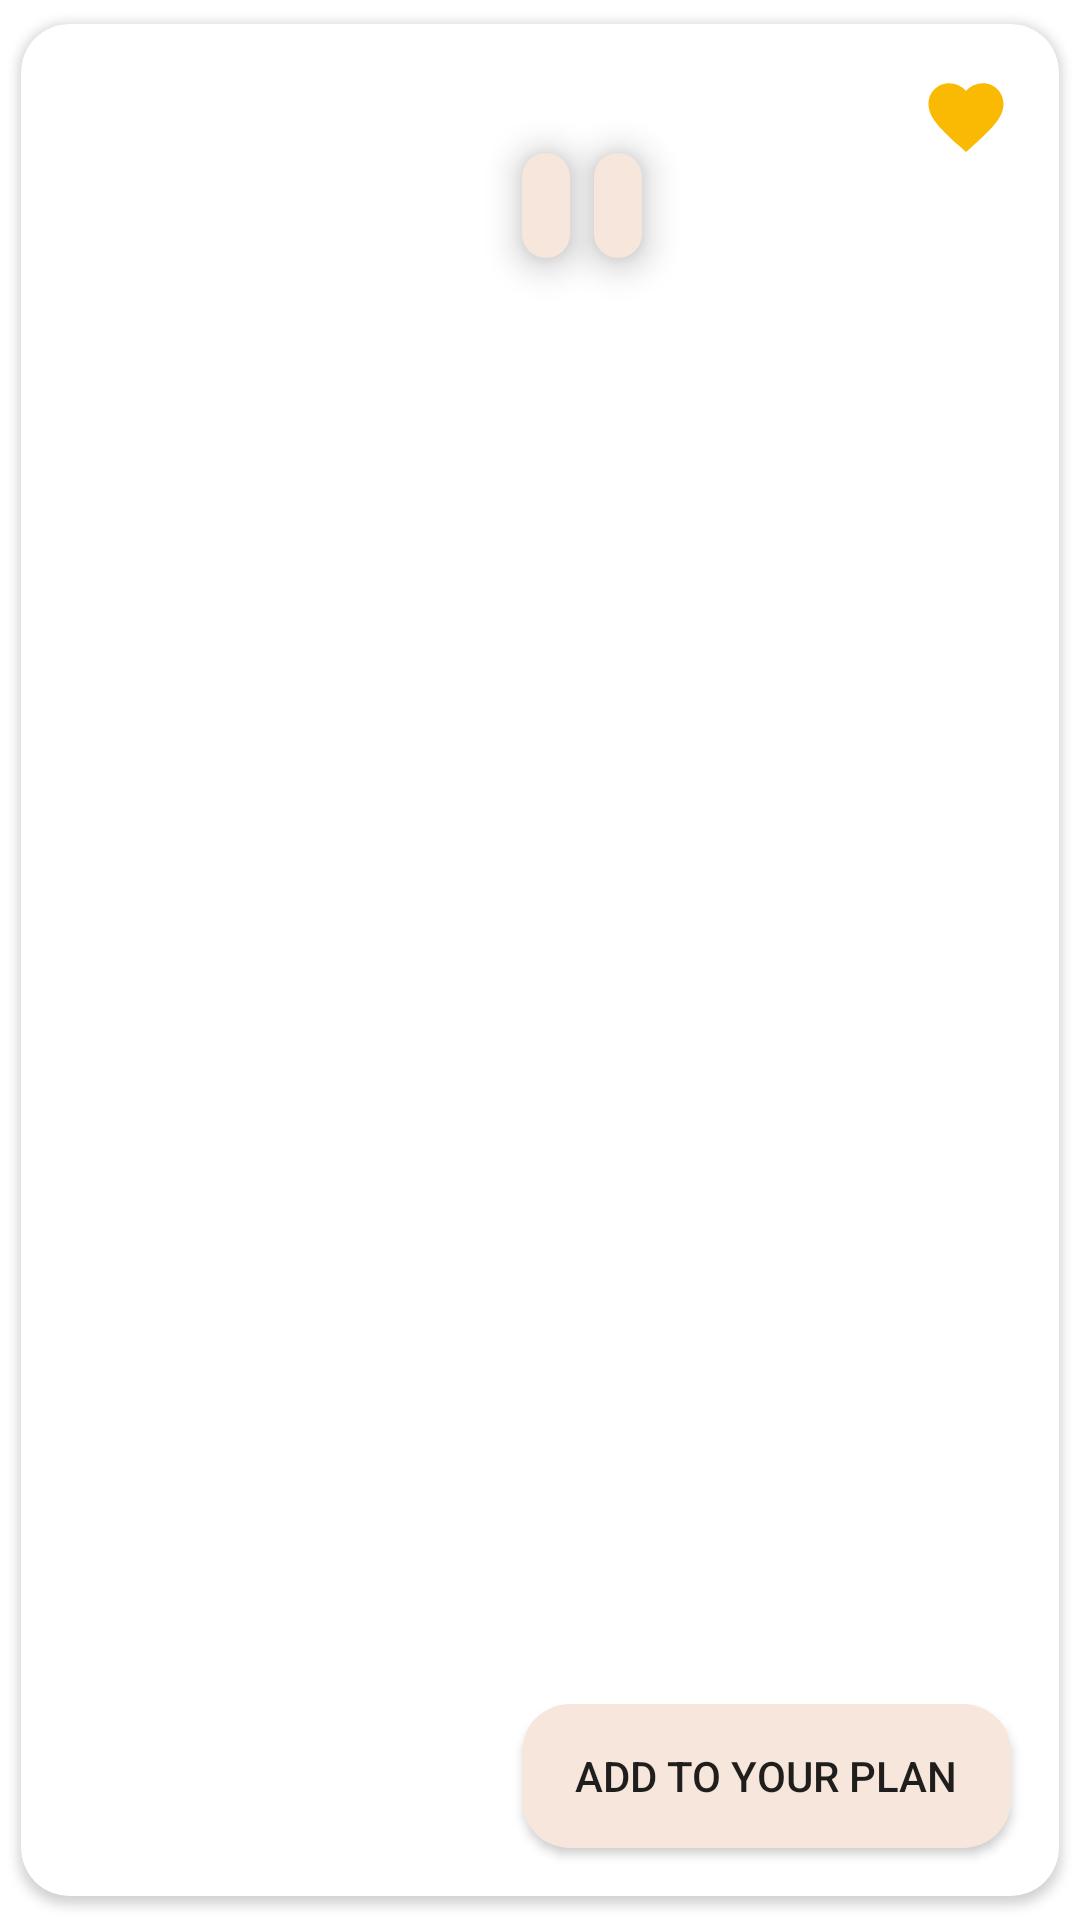

Named icons in this screenshot (1080*1920) and their centers, [x,y]:
favorite: [966,117]
